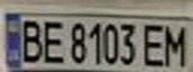0: (103, 19, 121, 65)
1: (84, 19, 106, 64)
3: (118, 20, 142, 66)
8: (66, 19, 87, 64)
B: (15, 16, 48, 64)
E: (139, 20, 169, 68), (39, 17, 66, 64)
M: (160, 20, 190, 68)
